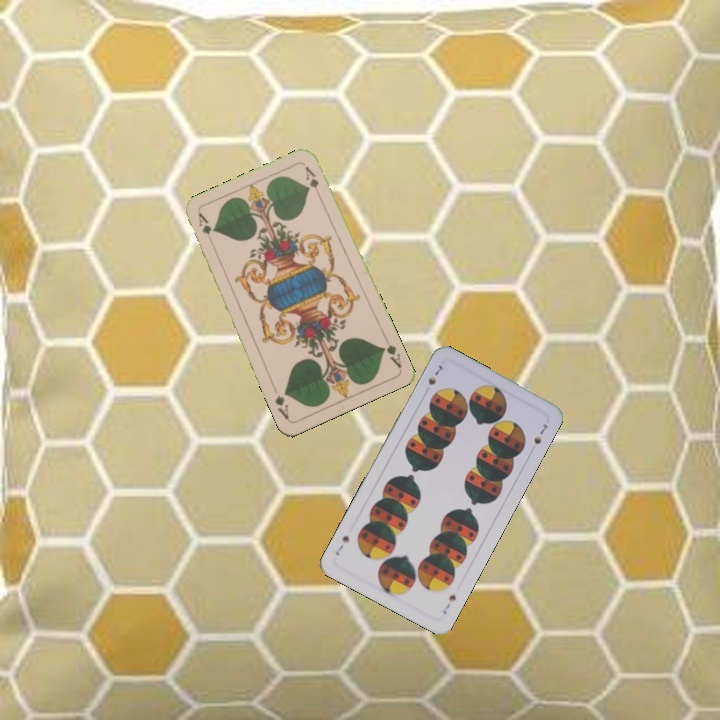GA: (378, 332, 404, 371), (194, 209, 216, 248)
S7: (424, 360, 447, 388), (438, 590, 459, 617)
